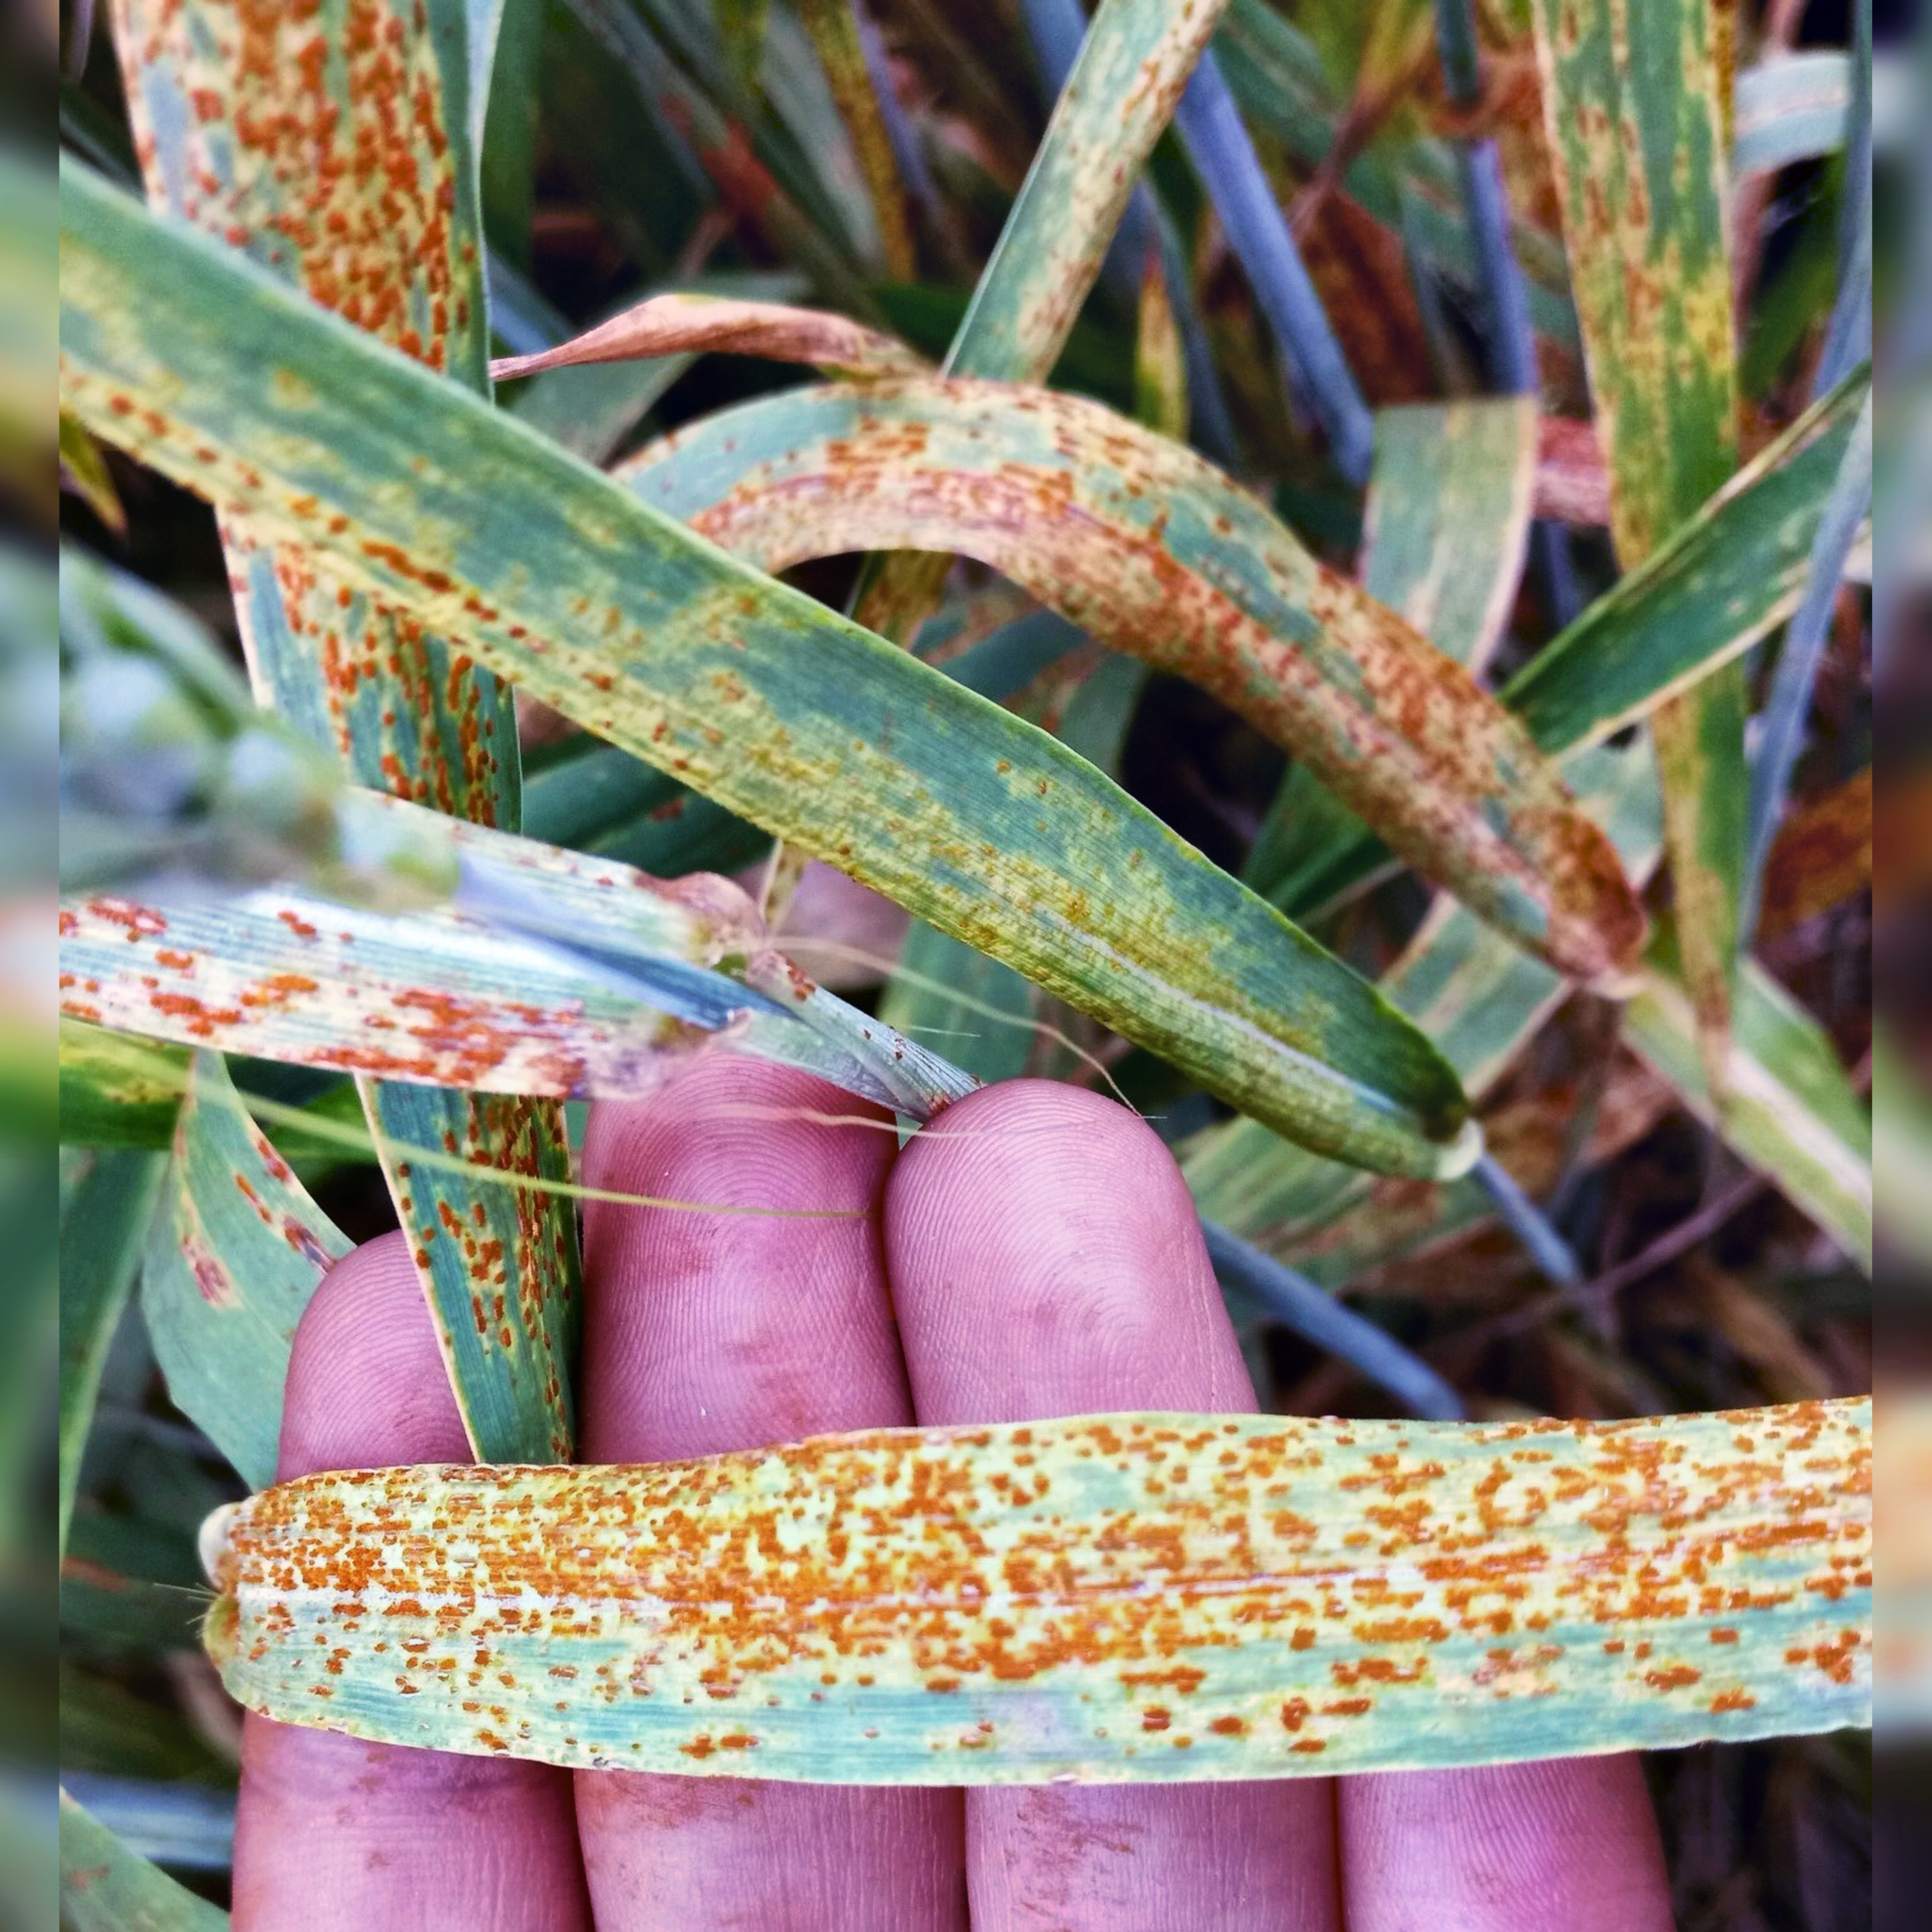Leaf Rust: (265, 1359, 1858, 1815)
